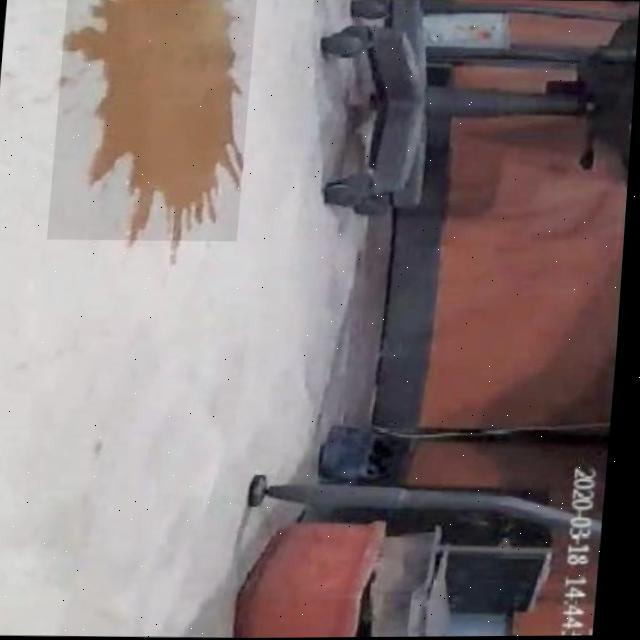spillage: (62, 0, 243, 240)
